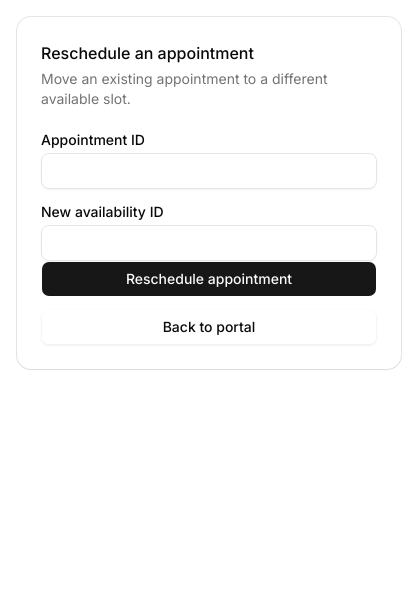
it: ReschedulePage › submits the form and shows the updated appointment on success
In the field labelled "Appointment ID": (209, 171) [41,153,377,189], type "appt-1"
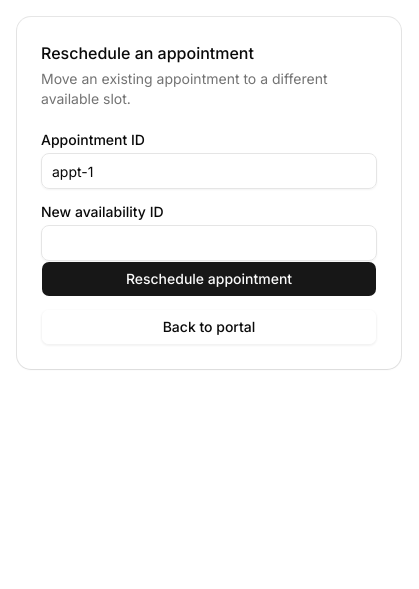
In the field labelled "New availability ID": (209, 243) [41,225,377,261], type "slot-2"
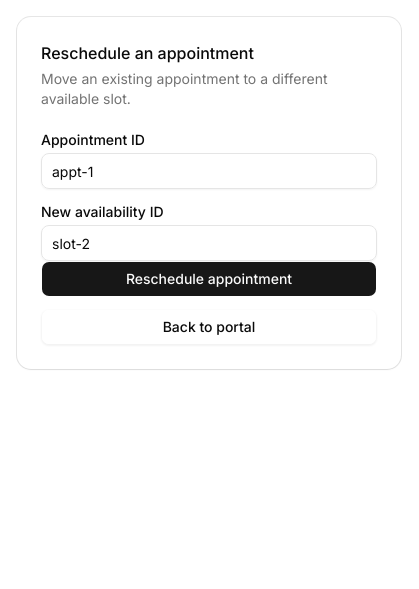
Click the button "Reschedule appointment": click(209, 279) [41,261,377,297]
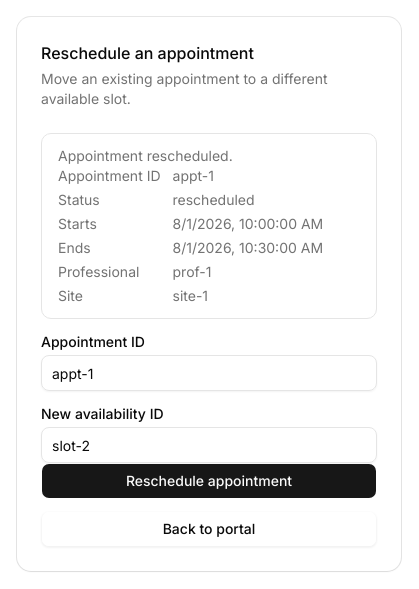
Now the text "rescheduled" is shown, box [172,191,254,208]
